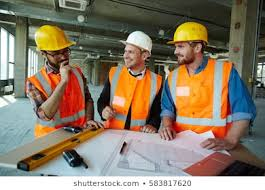hard hat: (34, 25, 76, 51), (166, 22, 209, 45), (119, 30, 153, 54)
high-vis: (166, 58, 234, 138), (28, 64, 88, 139), (105, 64, 162, 132)
